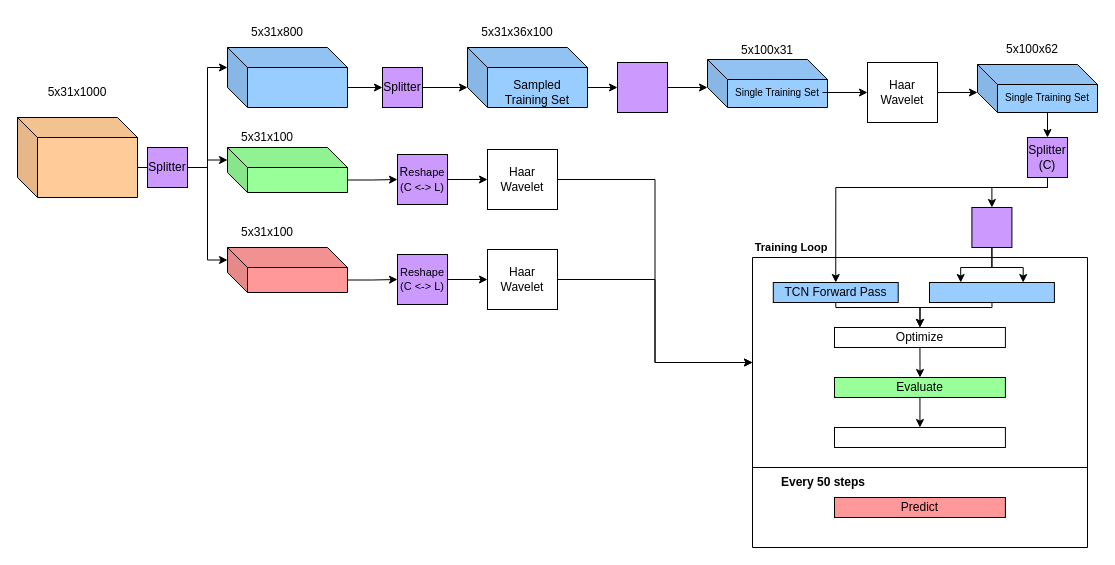
The diagram is 1115 pixels wide and 565 high, and some of its shapes have lost their labels. The shapes that lost their labels are listed below. From the top down, each one's box as (x1, y1, x2, y2) in pixels, then its label:
(226, 46, 348, 108): Total Training Set
(616, 62, 668, 112): Split and reshape
(16, 116, 138, 198): Original Dataset
(226, 146, 348, 192): Evaluation Set
(971, 206, 1012, 248): Splitter (L)
(226, 246, 348, 292): Test Set
(928, 282, 1054, 302): FC Forward Pass
(834, 426, 1005, 448): Backwards Loss
